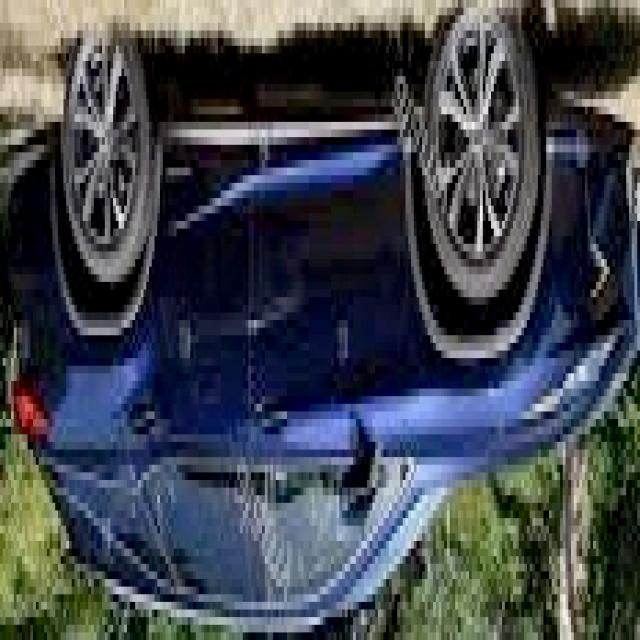blue: (0, 37, 640, 628)
